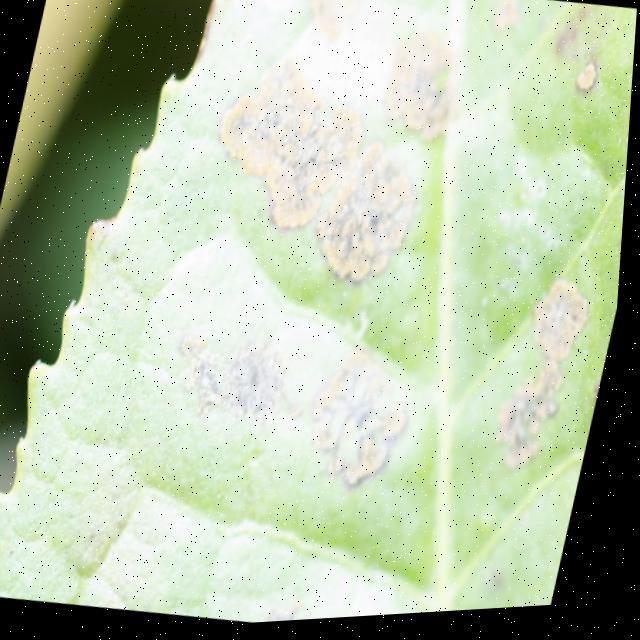Tea red rust: (141, 0, 639, 590)
